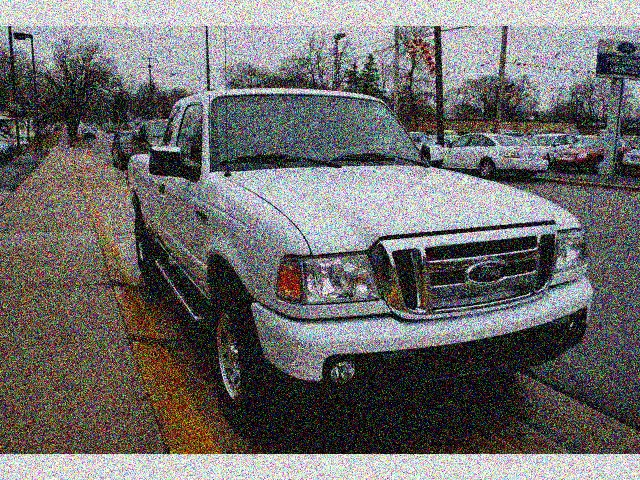car: (109, 79, 609, 452), (426, 117, 565, 189)
